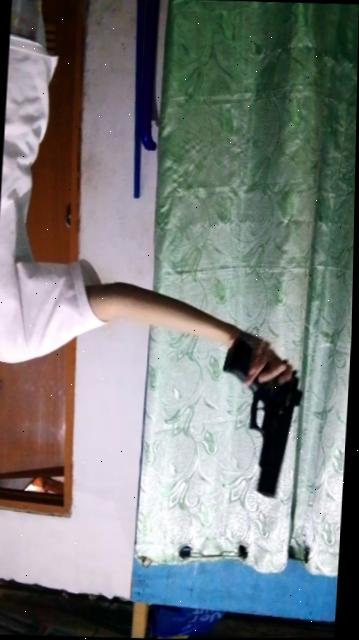pistol: (211, 330, 315, 509)
